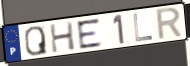1: (112, 14, 127, 46)
E: (75, 17, 104, 51)
H: (48, 20, 77, 54)
L: (131, 12, 154, 43)
Q: (24, 25, 49, 57)
R: (155, 6, 185, 42)
